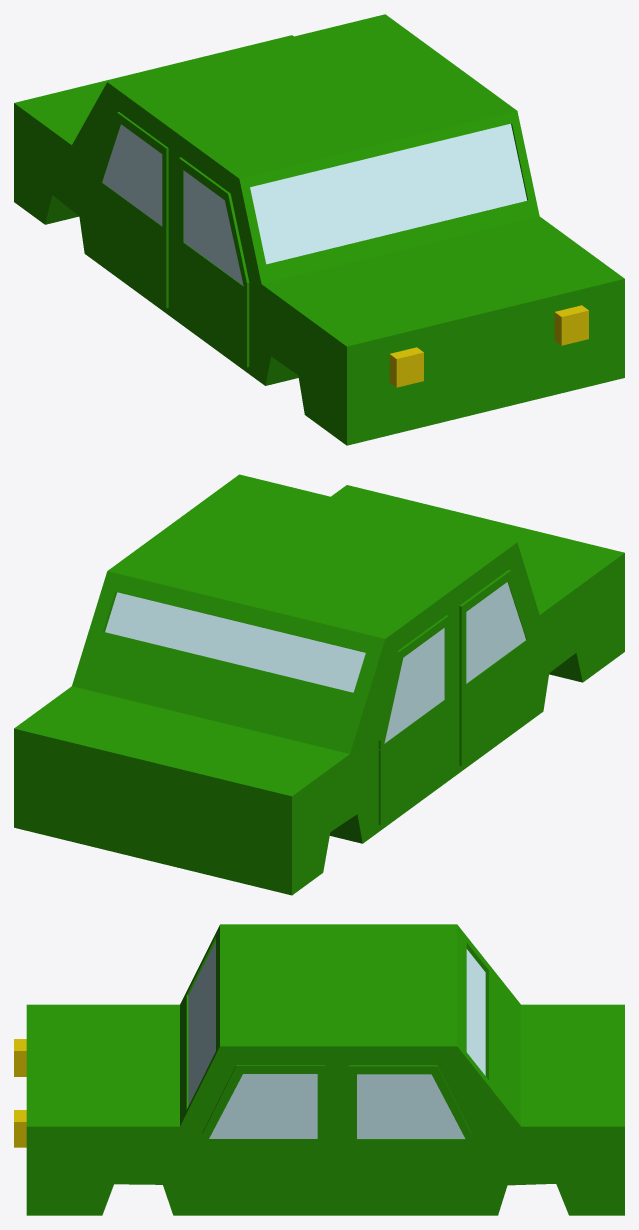
Rendered from Coche Verde.fbx.
The picture shows the model from 3 angles, top to bottom: view 1: azimuth 30°, elevation 25°; view 2: azimuth 150°, elevation 25°; view 3: azimuth 270°, elevation 25°; orthographic projection. The views are drawn at different scales.
Visible parts, largest first — view 1: Cube, Cube.010, Cube.004, Cube.005, Cube.009, Cube.008, Cube.002; view 2: Cube, Cube.011, Cube.004, Cube.005, Cube.009, Cube.008; view 3: Cube, Cube.001, Cube.003, Cube.006, Cube.007, Cube.010, Cube.011, Cube.002.
Boxes of the visible parts, box(x1,y1,x2,y2) form: Cube: box(14, 14, 624, 445); Cube.010: box(250, 123, 527, 264); Cube.004: box(178, 157, 249, 367); Cube.005: box(98, 112, 168, 307); Cube.009: box(102, 124, 162, 225); Cube.008: box(183, 170, 243, 285); Cube.002: box(389, 305, 588, 387); Cube: box(14, 474, 624, 895); Cube.011: box(105, 592, 365, 692); Cube.004: box(459, 570, 529, 765); Cube.005: box(378, 615, 448, 825); Cube.009: box(379, 628, 444, 749); Cube.008: box(466, 582, 525, 683); Cube: box(26, 924, 624, 1215); Cube.001: box(348, 1065, 471, 1209); Cube.003: box(202, 1065, 324, 1209); Cube.006: box(209, 1074, 317, 1138); Cube.007: box(357, 1074, 465, 1138); Cube.010: box(188, 941, 215, 1105); Cube.011: box(466, 949, 485, 1075); Cube.002: box(14, 1039, 26, 1147).
Size of the model in its own units: 172 by 109 by 358.
